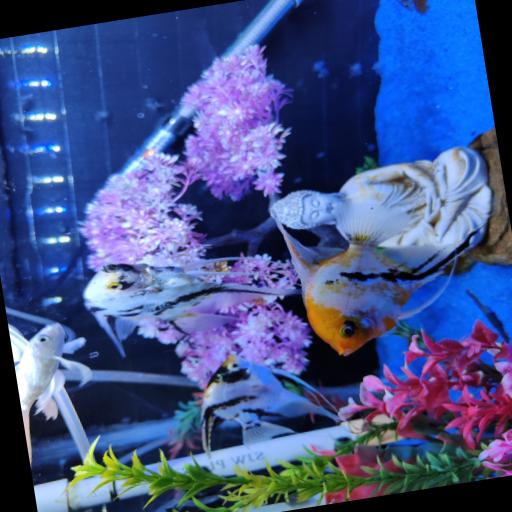Fish: (277, 201, 474, 355), (83, 257, 299, 356), (202, 355, 339, 454), (15, 324, 91, 465)
